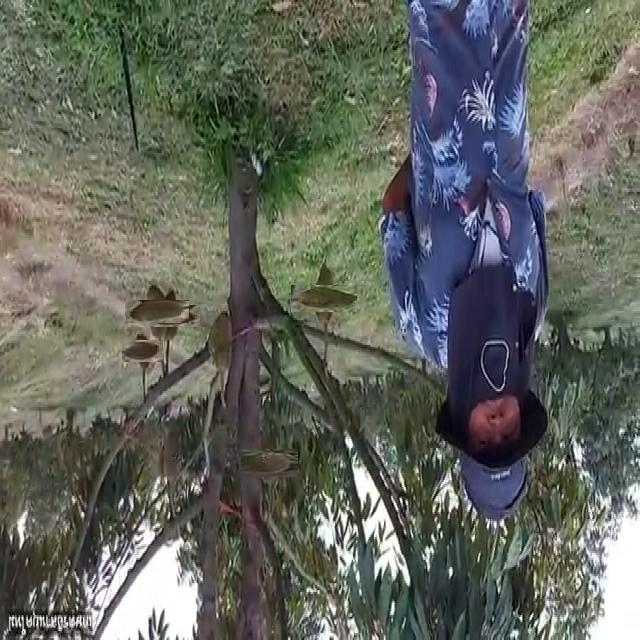durian: (301, 275, 348, 322), (206, 310, 236, 378), (135, 290, 179, 334), (248, 442, 291, 485), (149, 295, 191, 336), (127, 335, 159, 367)
